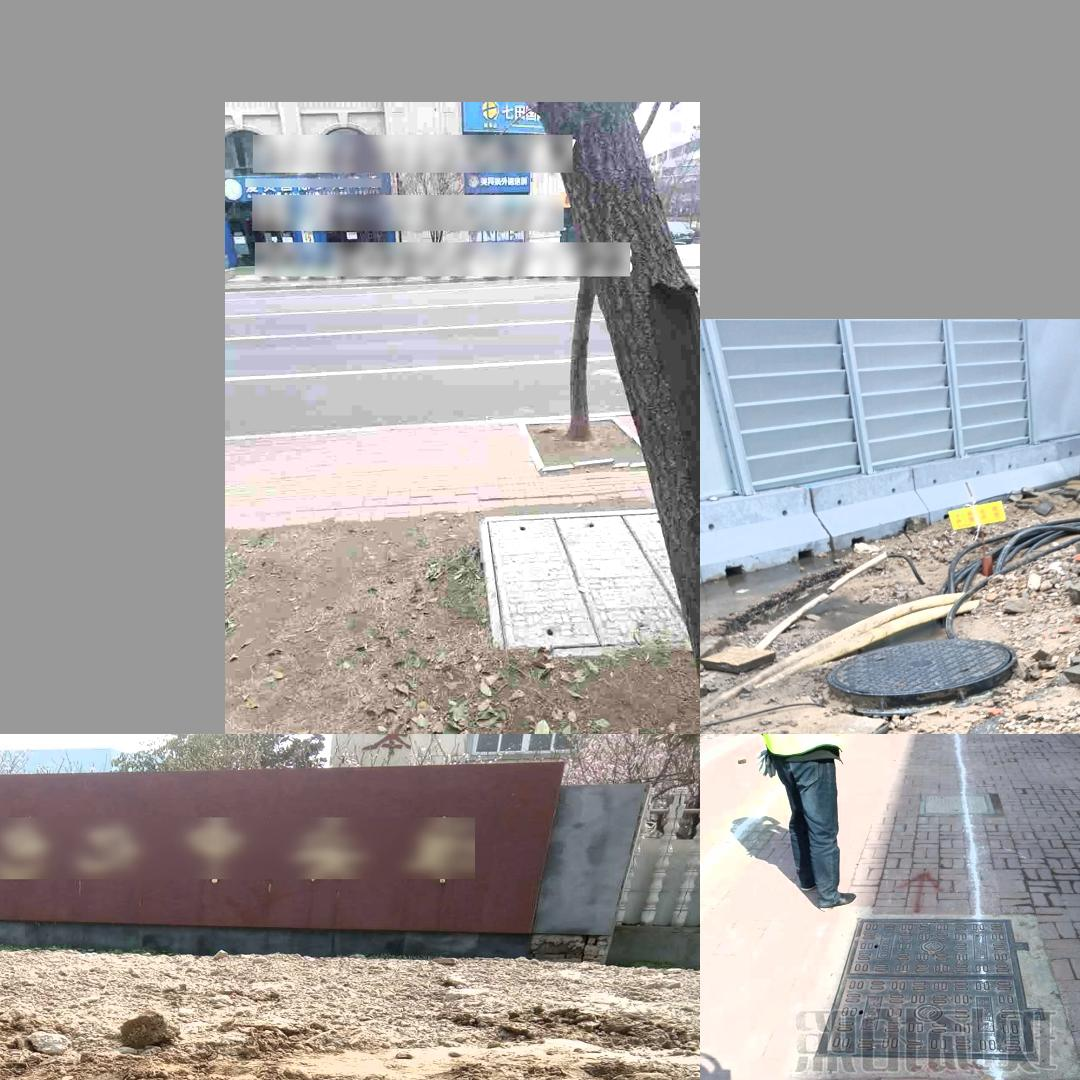good: (811, 914, 1046, 1060), (478, 508, 700, 657), (826, 639, 1018, 697), (919, 791, 996, 814)
